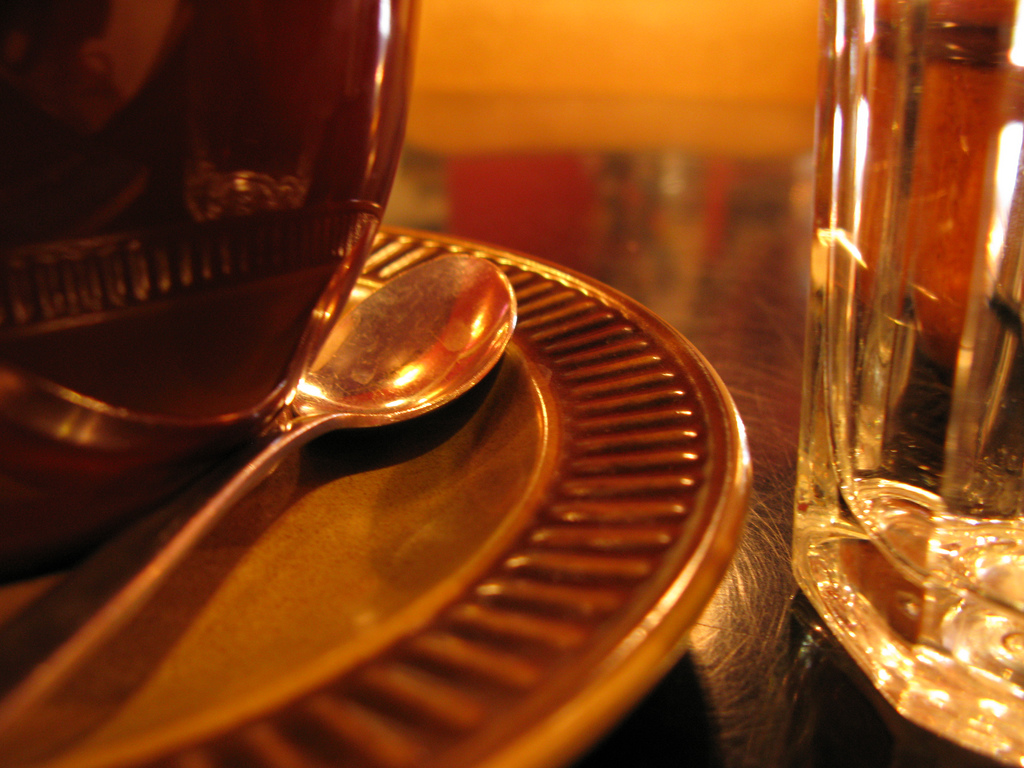glass of water: (811, 4, 1014, 725)
